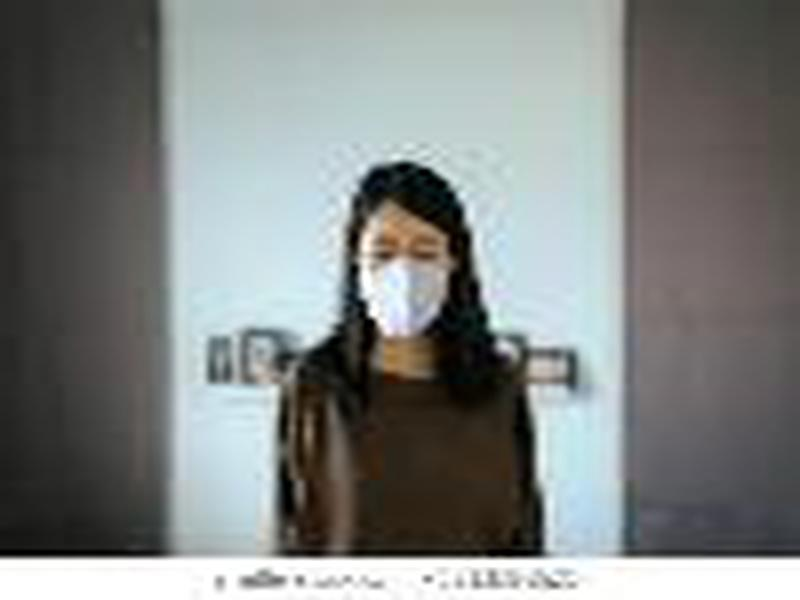with_mask: (356, 207, 453, 342)
